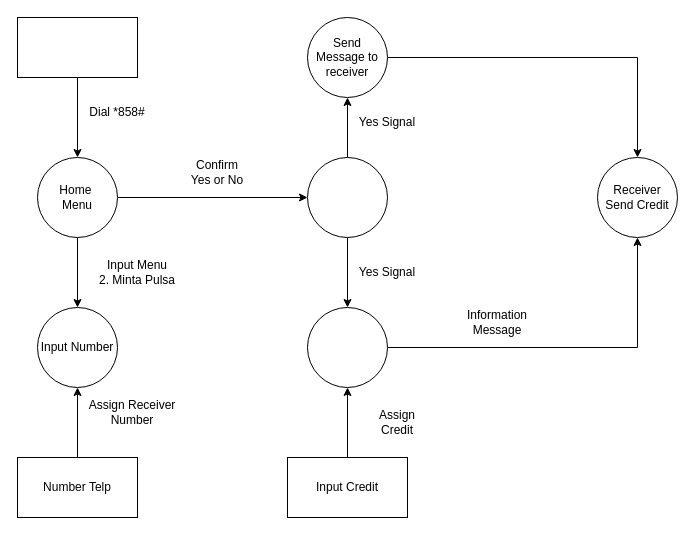
Image size: 695x535. Some labels were removed from this diagram. Each missing label, with the box of its shape:
Confirmation: (306, 156, 388, 238)
Customer: (16, 16, 138, 78)
Send Mesage To User: (306, 306, 388, 388)
